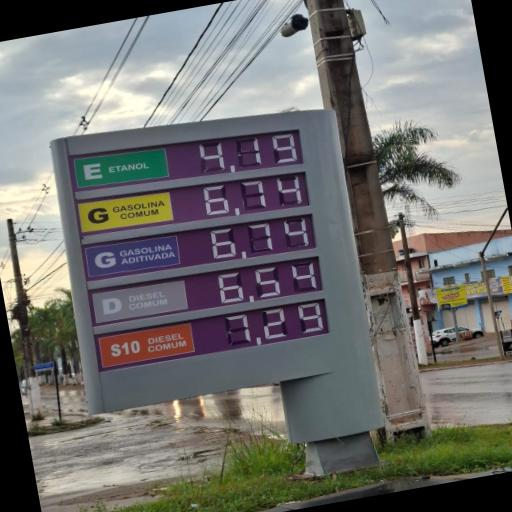ETANOL: (73, 145, 172, 187)
GASOLINA AD: (84, 235, 182, 280)
GASOLINA C: (77, 189, 174, 230)
S10: (99, 322, 196, 367)
S500: (92, 280, 190, 323)
placa: (56, 118, 350, 382)
preco: (203, 213, 317, 264), (222, 297, 329, 349), (213, 257, 321, 307), (192, 128, 302, 174), (201, 172, 309, 218)
